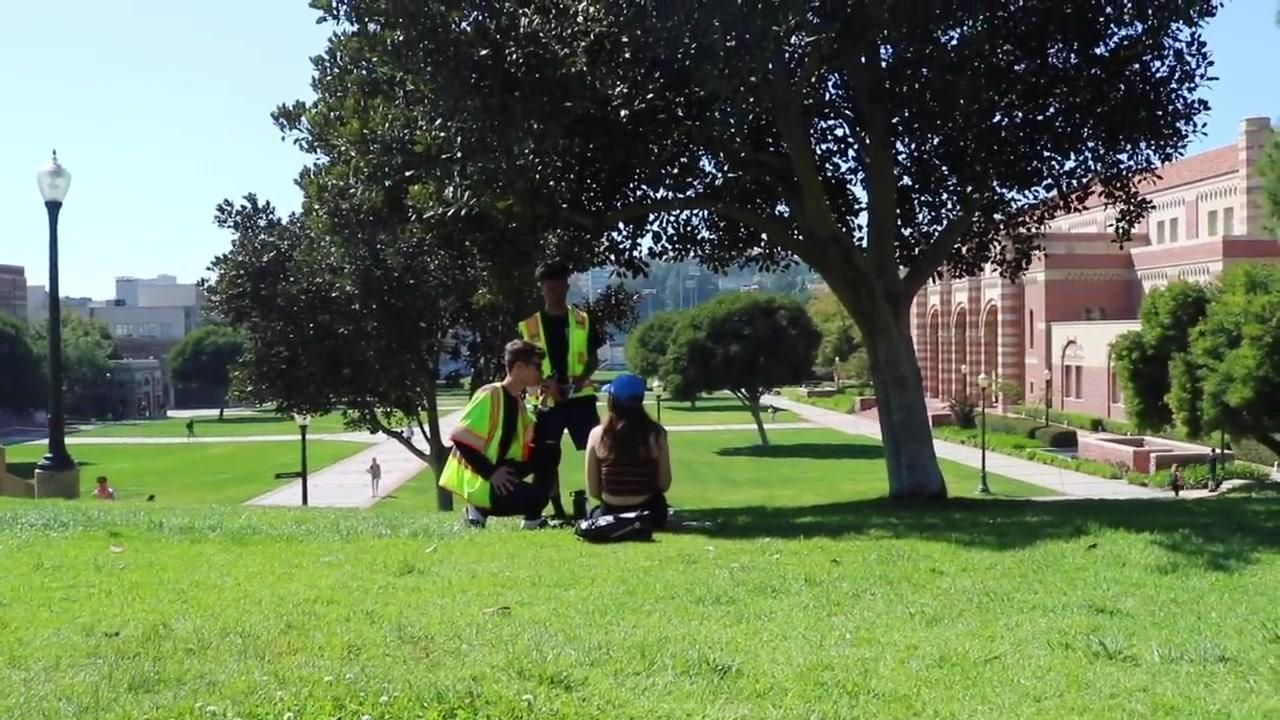vest: (428, 385, 536, 510), (512, 305, 603, 398)
